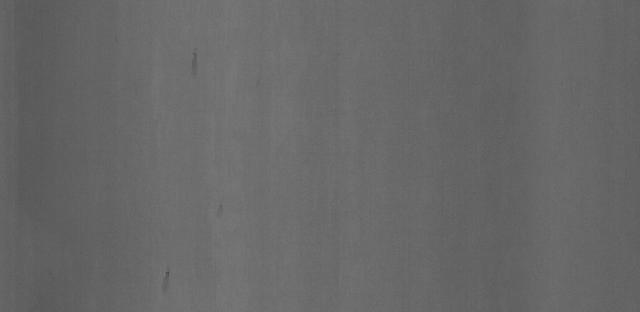water_spot: (149, 248, 180, 298), (174, 48, 212, 84), (198, 189, 234, 222)
